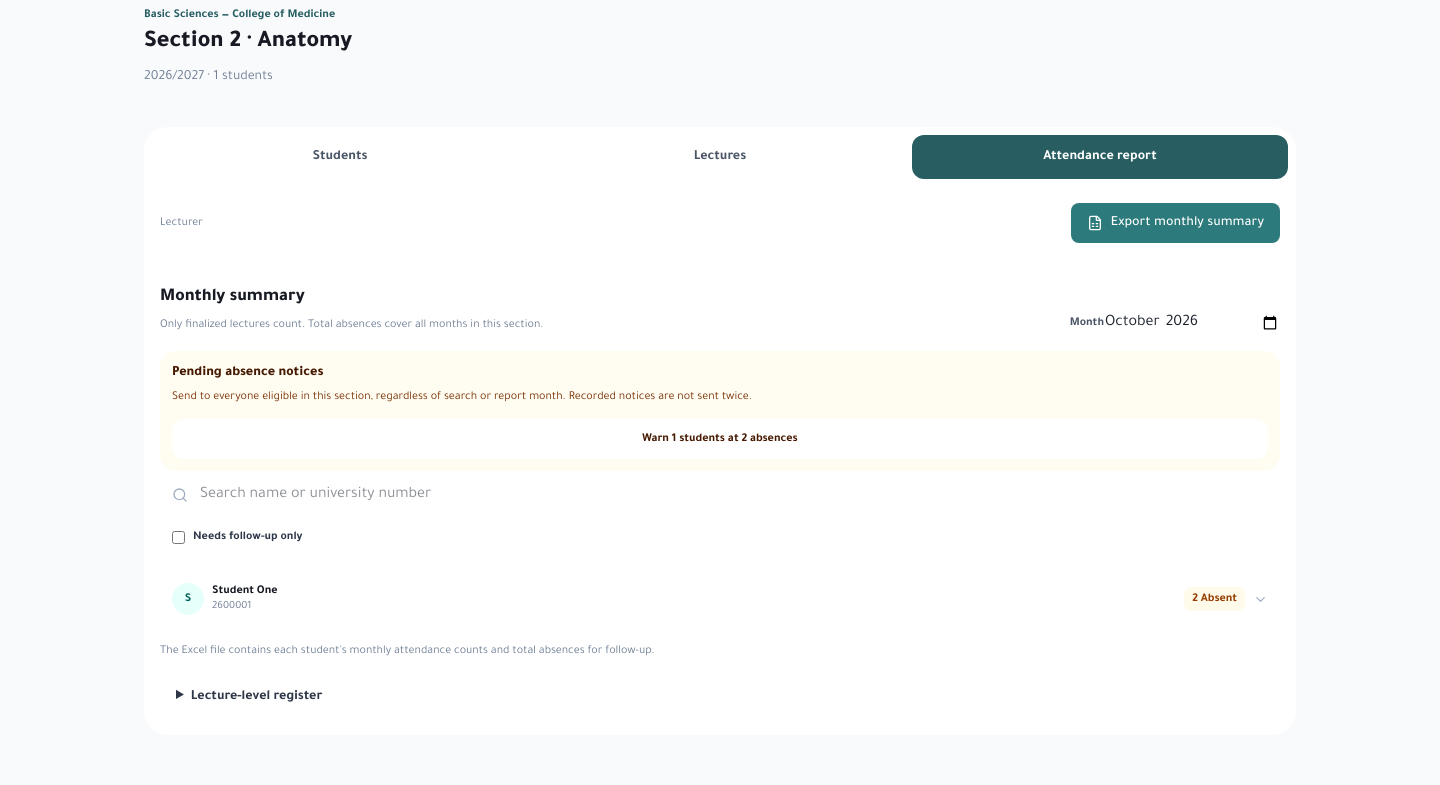
Test case: lets only the administrator remove a finalized lecture from report details
Click the heading "Lecture-level register" at (257, 697), box [191,690,322,704]
(page scrolled)
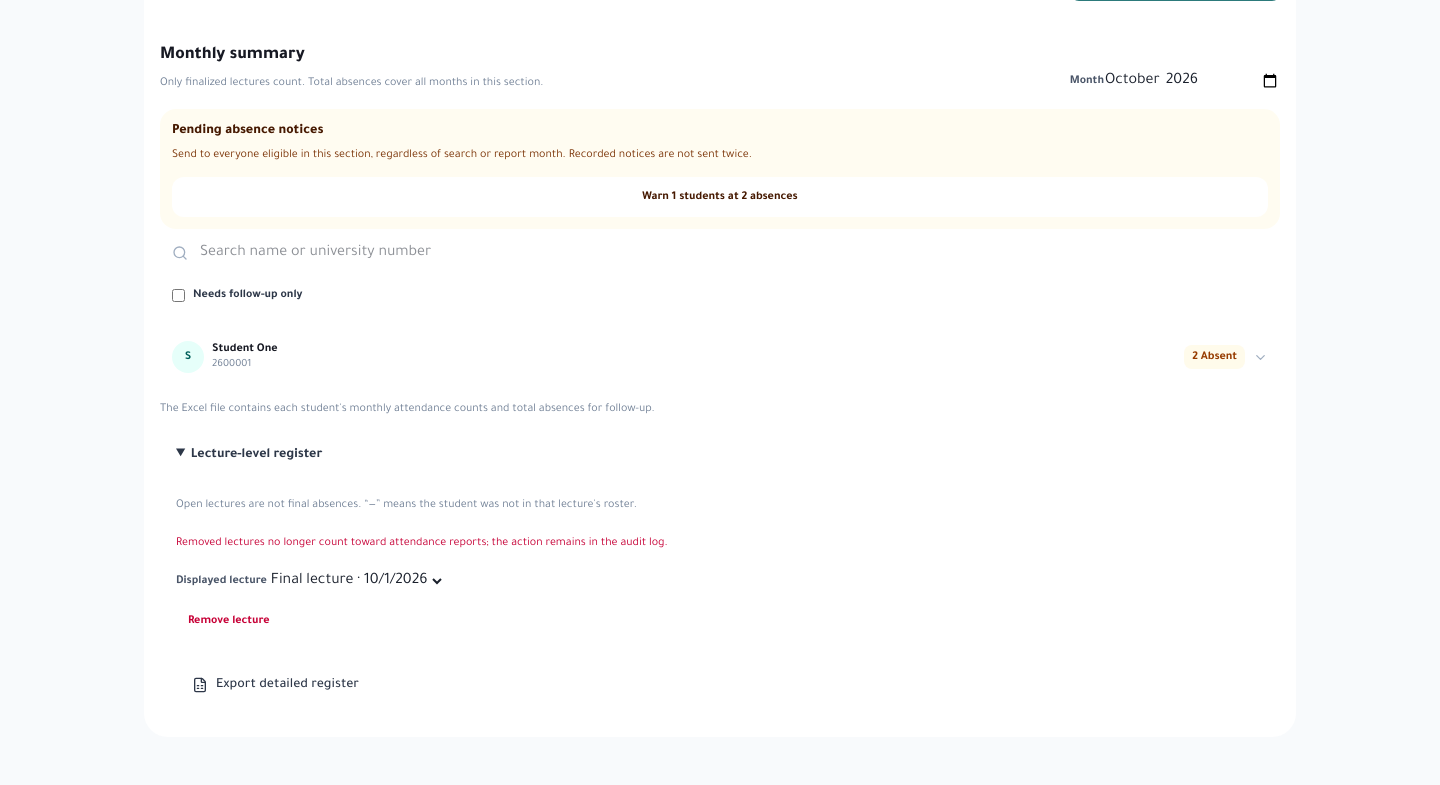
Now the dropdown labelled "Displayed lecture" is shown, box [267,572,445,590]
Click the button "Remove lecture" at (229, 621), box [176,605,282,637]
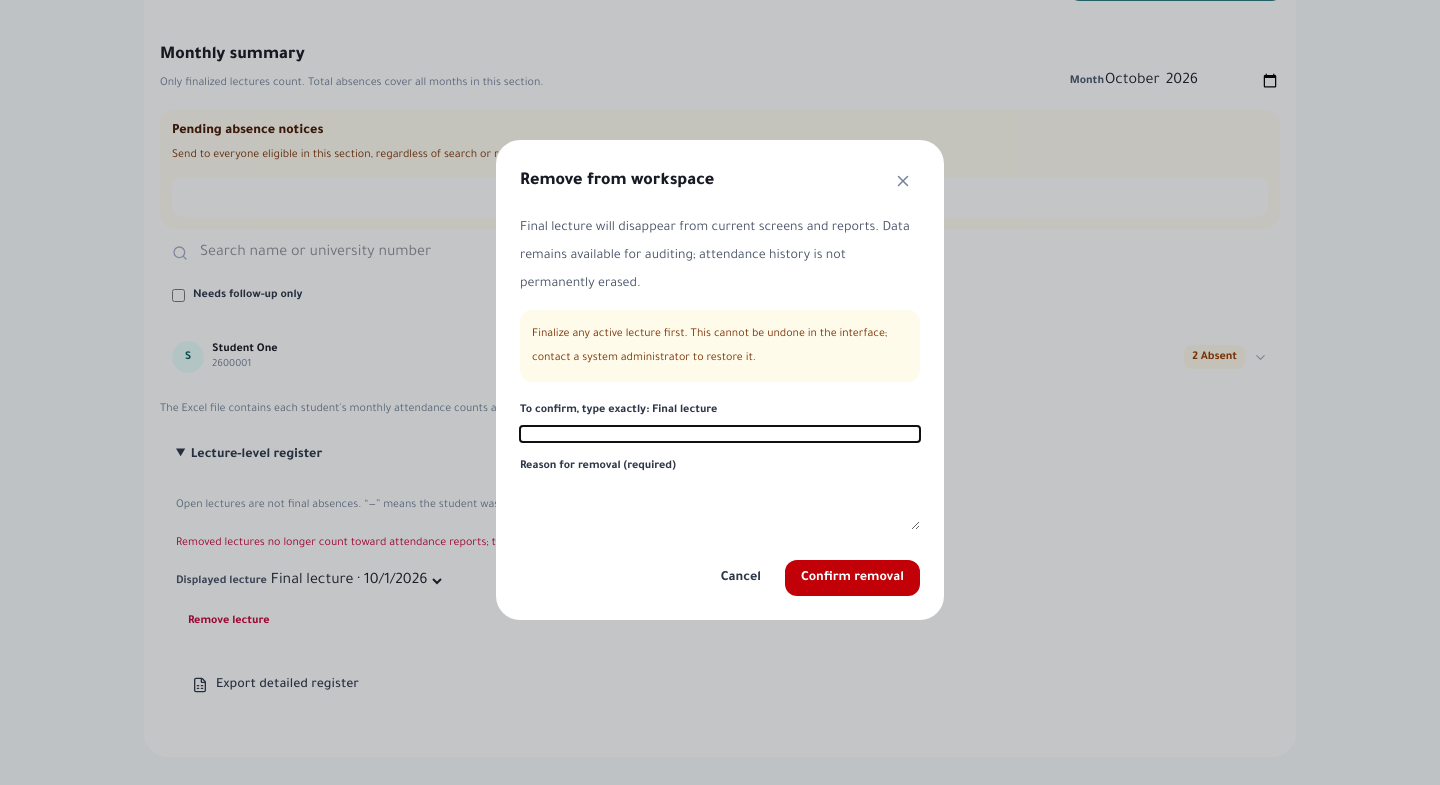
Type "Final lecture" into the field labelled "To confirm, type exactly: Final lecture" at (720, 434), box [520,426,920,442]
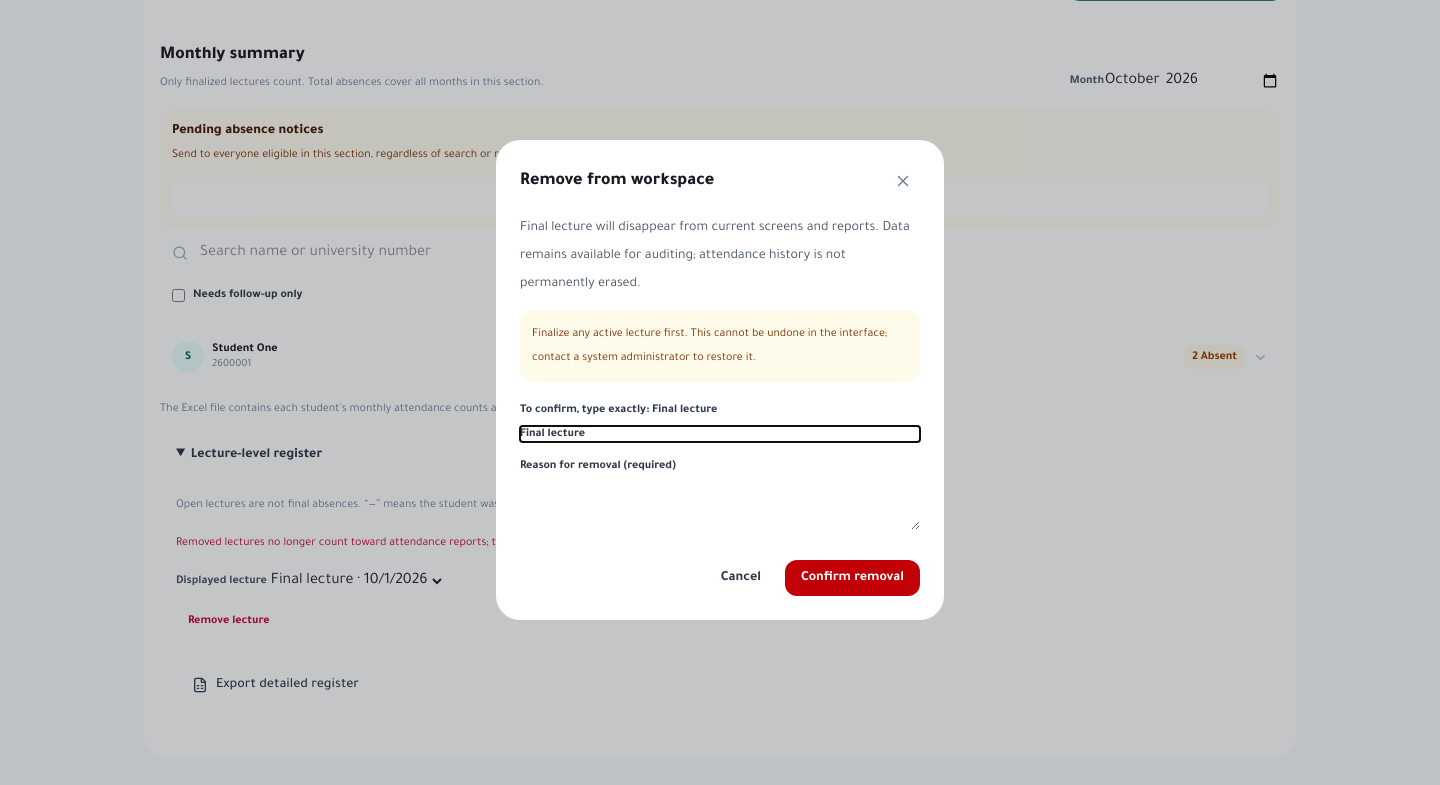
Type "Incorrect test lecture" into the text box labelled "Reason for removal (required)" at (720, 506), box [520,482,920,530]
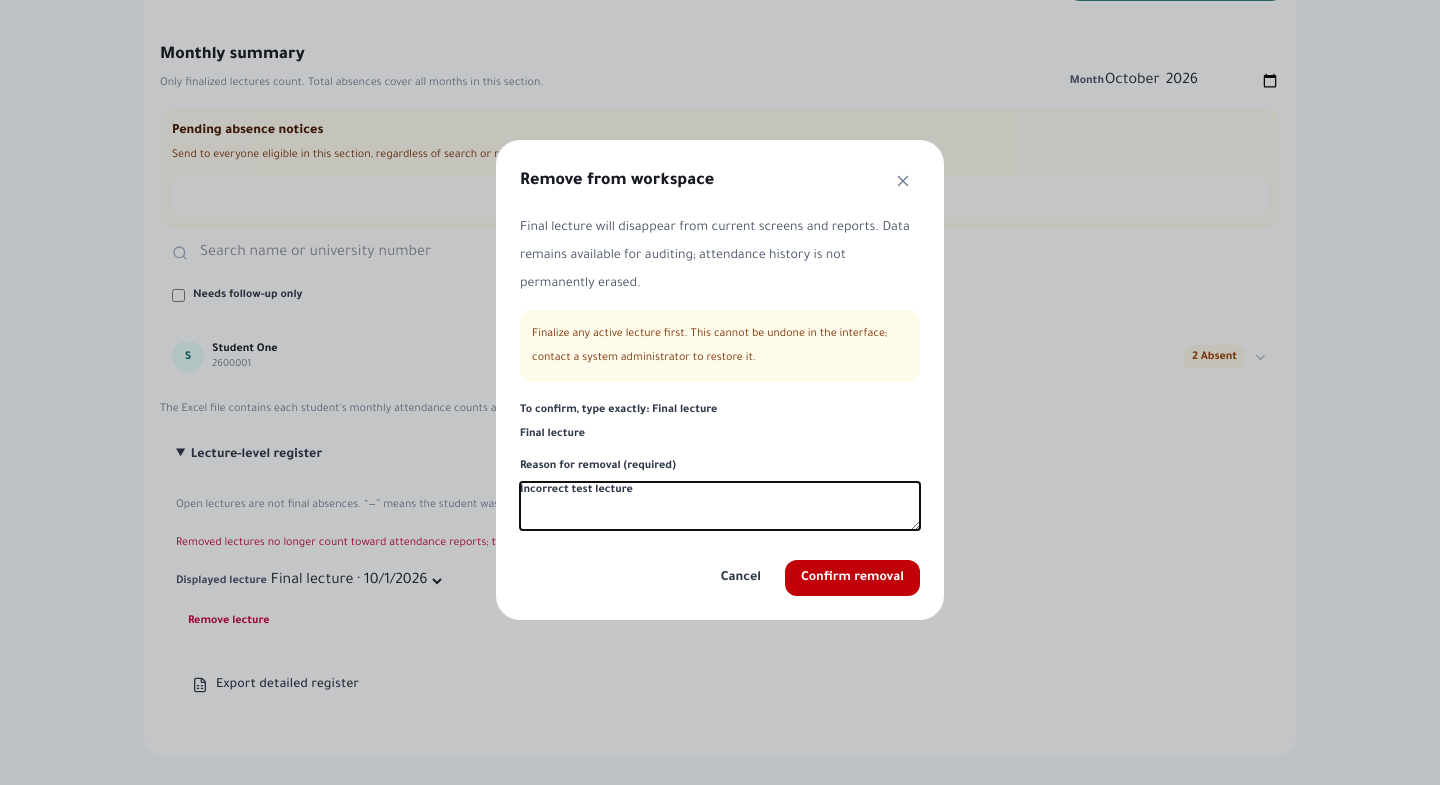
Click the button "Confirm removal" at (852, 578), box [785,560,920,596]
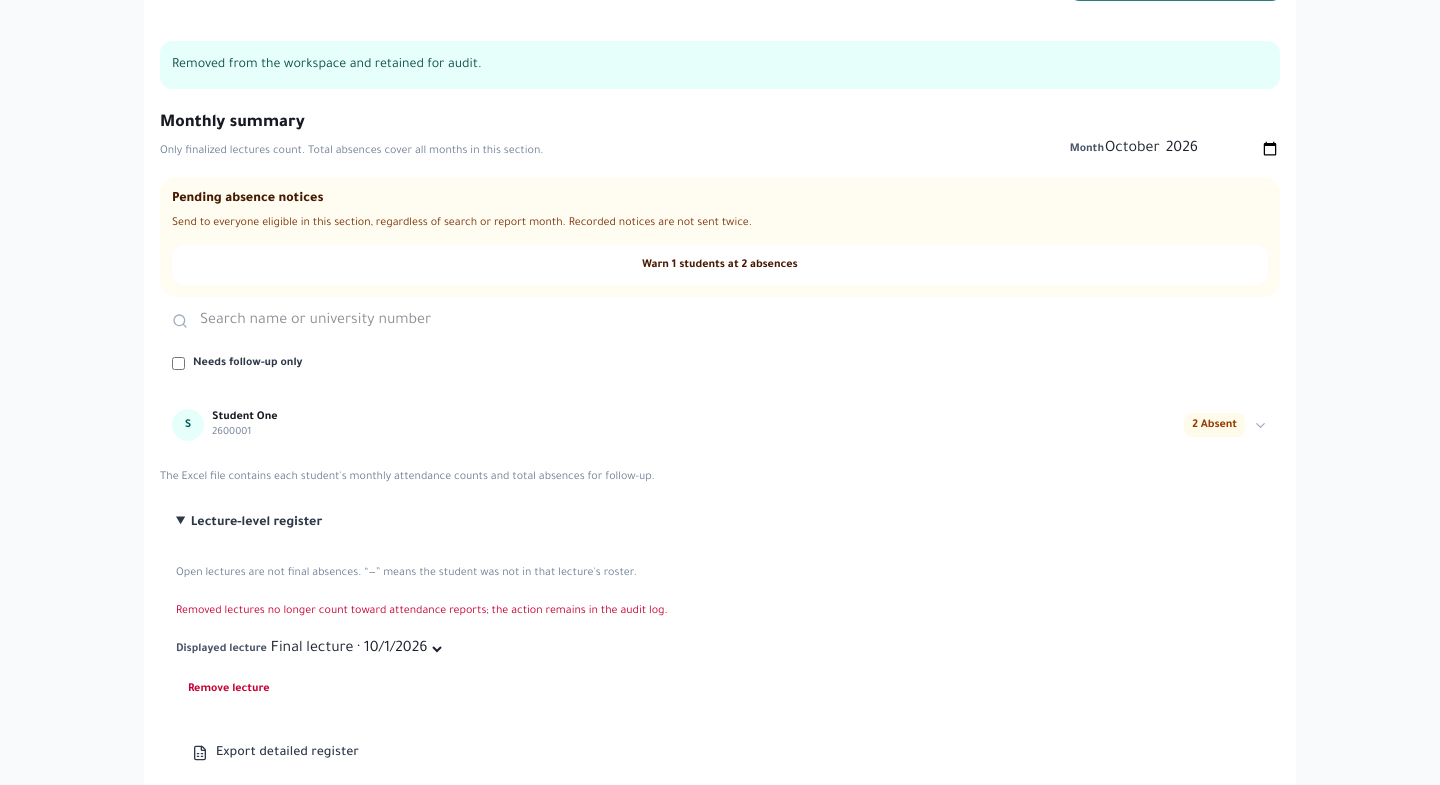
Now the heading "Remove from workspace" is gone
